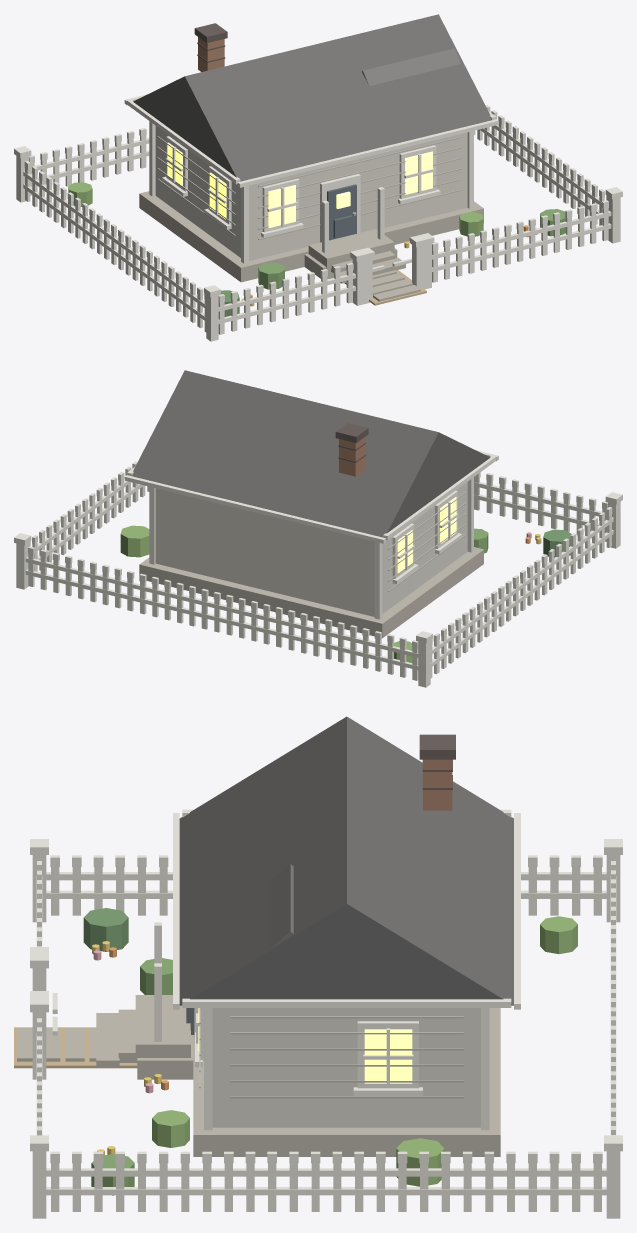
The model's file is house_2.glb.
The picture shows the model from 3 angles, top to bottom: view 1: azimuth 30°, elevation 25°; view 2: azimuth 150°, elevation 25°; view 3: azimuth 270°, elevation 25°; orthographic projection. The views are drawn at different scales.
Parts seen in each view (by area): view 1: MainRoof_dark_charcoal_gable, MainWalls_light_gray_core, Foundation_main_slab, MainRoof_front_fascia, FrontPorch_landing, RightSideGableRoof_dark, FenceLeftSide_rail_upper, FenceLeftSide_rail_lower, FenceFrontRight_rail_upper, FenceFrontRight_rail_lower, Window_front_left_glass_glow, Window_front_right_glass_glow (+24 smaller); view 2: MainRoof_dark_charcoal_gable, MainWalls_light_gray_core, Foundation_main_slab, FenceBack_rail_lower, FenceBack_rail_upper, MainRoof_back_fascia, FenceLeftSide_rail_upper, FenceLeftSide_rail_lower, MainRoof_left_rake_trim, Shrub_right_side_large, Chimney_brick_stack, FenceFrontLeft_rail_upper (+13 smaller); view 3: MainRoof_dark_charcoal_gable, MainWalls_light_gray_core, Foundation_main_slab, FenceRightSide_rail_upper, FenceRightSide_rail_lower, MainRoof_right_rake_trim, FrontPorch_landing, Window_right_side_glass_glow, FenceLeftSide_rail_upper, FenceLeftSide_rail_lower, Shrub_left_fence_corner, Window_right_side_trim_outer (+23 smaller).
Part boxes in pixels (box(x1,y1,x2,y2)): MainRoof_dark_charcoal_gable: box(133, 14, 491, 181); MainWalls_light_gray_core: box(155, 126, 467, 260); Foundation_main_slab: box(139, 191, 483, 282); MainRoof_front_fascia: box(237, 119, 498, 187); FrontPorch_landing: box(308, 229, 394, 269); RightSideGableRoof_dark: box(362, 48, 460, 85); FenceLeftSide_rail_upper: box(23, 171, 206, 308); FenceLeftSide_rail_lower: box(23, 183, 206, 321); FenceFrontRight_rail_upper: box(432, 211, 611, 259); FenceFrontRight_rail_lower: box(432, 223, 611, 271); Window_front_left_glass_glow: box(268, 185, 295, 228); Window_front_right_glass_glow: box(405, 151, 432, 194); MainRoof_dark_charcoal_gable: box(132, 370, 490, 537); MainWalls_light_gray_core: box(155, 482, 467, 616); Foundation_main_slab: box(139, 547, 483, 638); FenceBack_rail_lower: box(25, 569, 418, 670); FenceBack_rail_upper: box(25, 557, 418, 657); MainRoof_back_fascia: box(124, 475, 385, 543); FenceLeftSide_rail_upper: box(430, 517, 613, 654); FenceLeftSide_rail_lower: box(430, 530, 613, 667); MainRoof_left_rake_trim: box(383, 455, 496, 540); Shrub_right_side_large: box(120, 525, 149, 557); Chimney_brick_stack: box(339, 437, 365, 476); FenceFrontLeft_rail_upper: box(474, 482, 606, 518); MainRoof_dark_charcoal_gable: box(179, 716, 513, 1005); MainWalls_light_gray_core: box(212, 1008, 480, 1127); Foundation_main_slab: box(193, 1008, 500, 1156); FenceRightSide_rail_upper: box(46, 1168, 606, 1176); FenceRightSide_rail_lower: box(46, 1187, 606, 1195); MainRoof_right_rake_trim: box(182, 998, 511, 1007); FrontPorch_landing: box(135, 995, 190, 1061); Window_right_side_glass_glow: box(364, 1029, 412, 1083); FenceLeftSide_rail_upper: box(46, 872, 606, 880); FenceLeftSide_rail_lower: box(46, 890, 606, 898); Shrub_left_fence_corner: box(83, 908, 128, 951); Window_right_side_trim_outer: box(357, 1021, 418, 1088).
Size of the model in its own units: 8.32 by 3.48 by 7.04.
